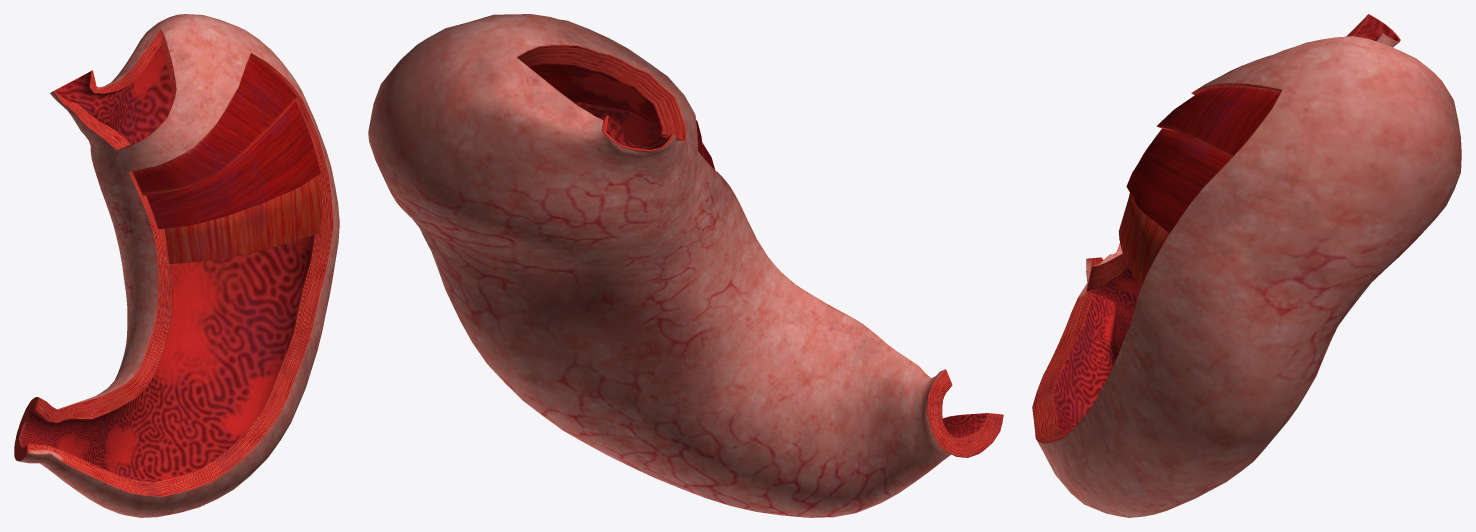
3 renders of one model, left to right at view 1: azimuth 30°, elevation 25°; view 2: azimuth 150°, elevation 25°; view 3: azimuth 270°, elevation 25°, orthographic. The views are drawn at different scales.
Parts seen in each view (by area): view 1: Stomach; view 2: Stomach; view 3: Stomach.
Part boxes in pixels (x1=…): Stomach: x1=14, y1=14, x2=339, y2=517; Stomach: x1=368, y1=14, x2=1003, y2=517; Stomach: x1=1032, y1=14, x2=1461, y2=517.
Bounding box in the file's own units: 1.45 × 1.52 × 1.14.
Materials: 2 (2 with a texture image).
